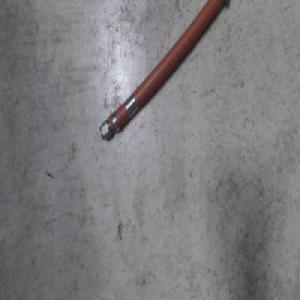Hose: (97, 0, 228, 142)
